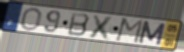9: (42, 9, 62, 34)
B: (66, 11, 91, 38)
M: (114, 17, 145, 45), (137, 20, 167, 47)
O: (19, 7, 43, 32)
X: (86, 13, 116, 42)
